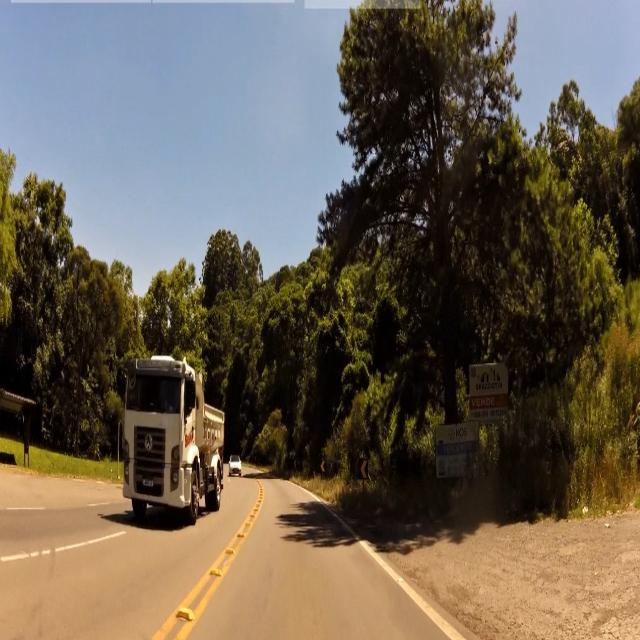Del: (358, 454, 368, 478), (320, 458, 326, 472)
